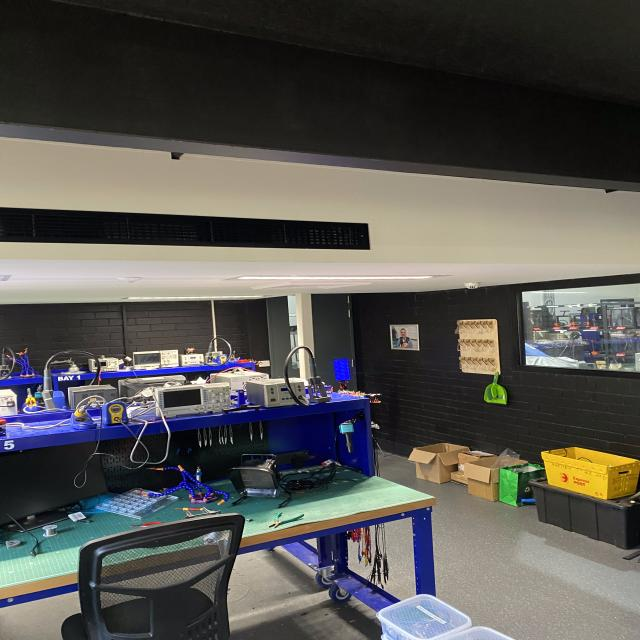matrix: (330, 358, 356, 382)
